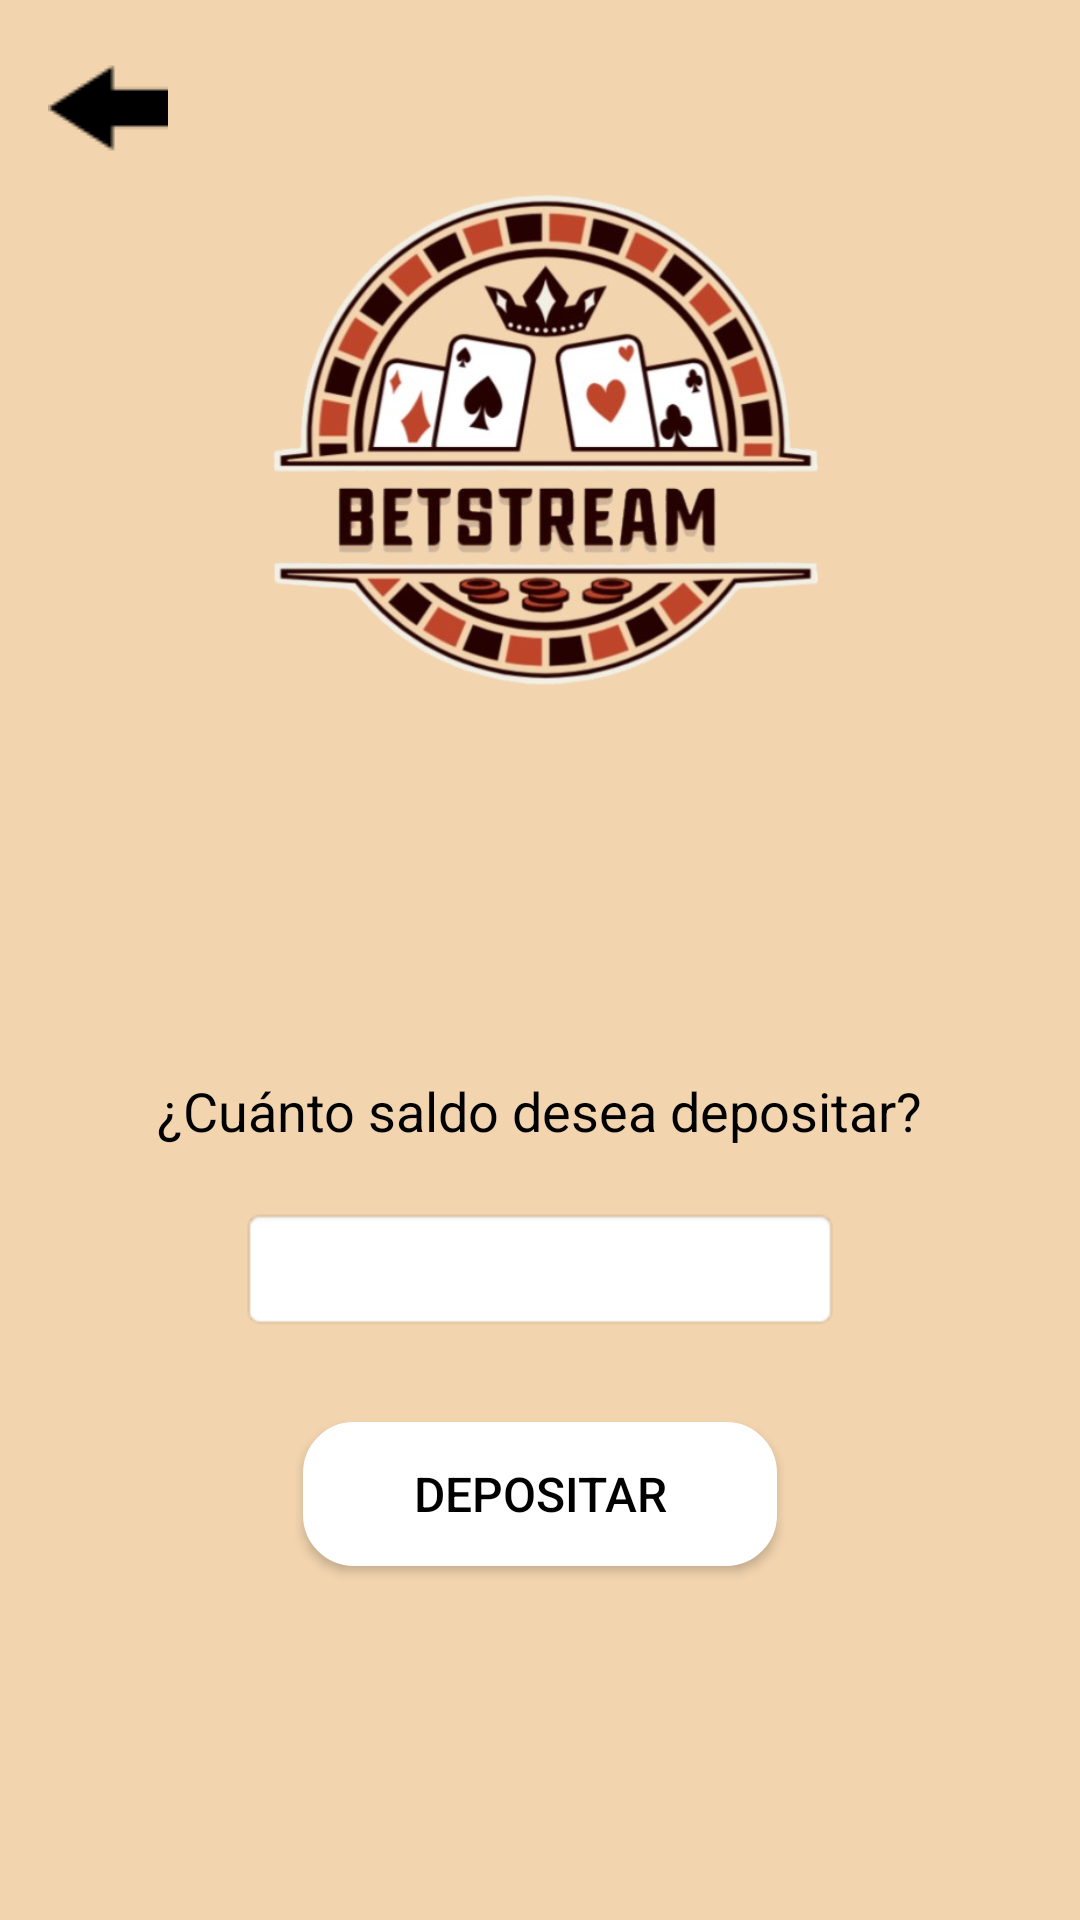

Icons on this 1080 × 1920 Android screen, each with its box as (x1, y1, x2, y2):
back arrow: (48, 65, 168, 151)
